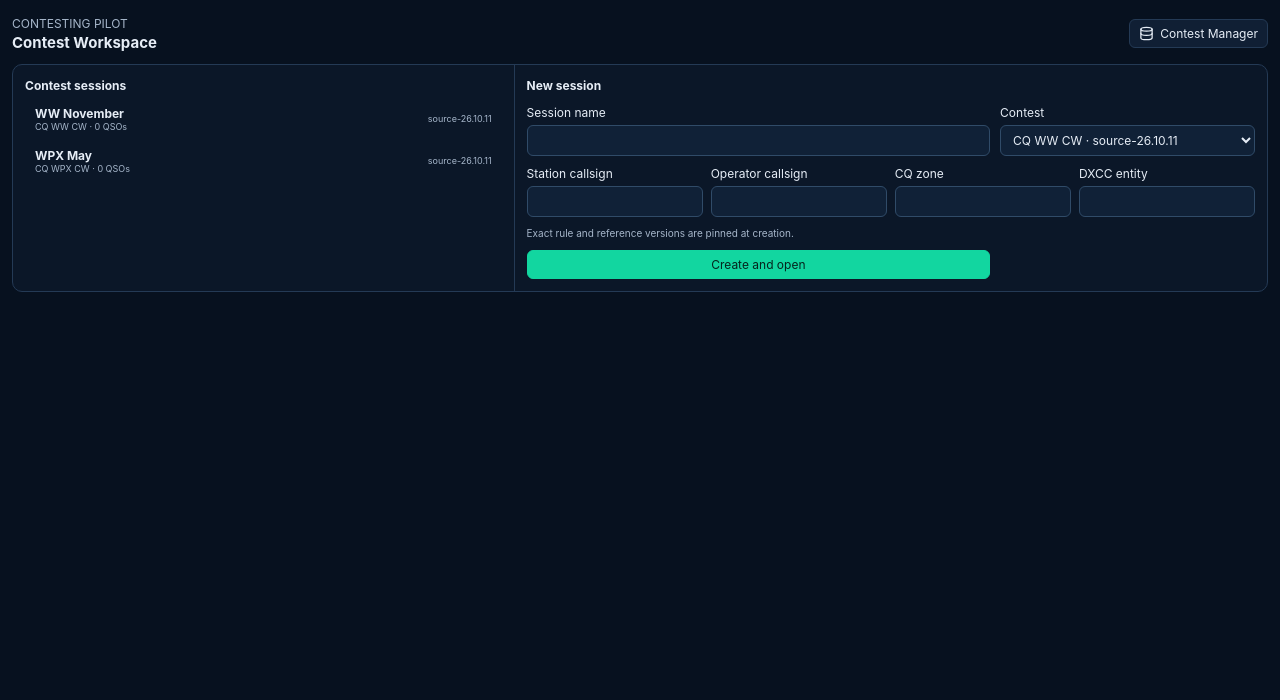
Test: shows actionable duplicate guidance for an authoritative blank next draft
The width and height of the screenshot is (1280, 700).
Click the button "WW November CQ WW CW · 0 QSOs source-26.10.11" at (79, 113), box [25,100,502,137]
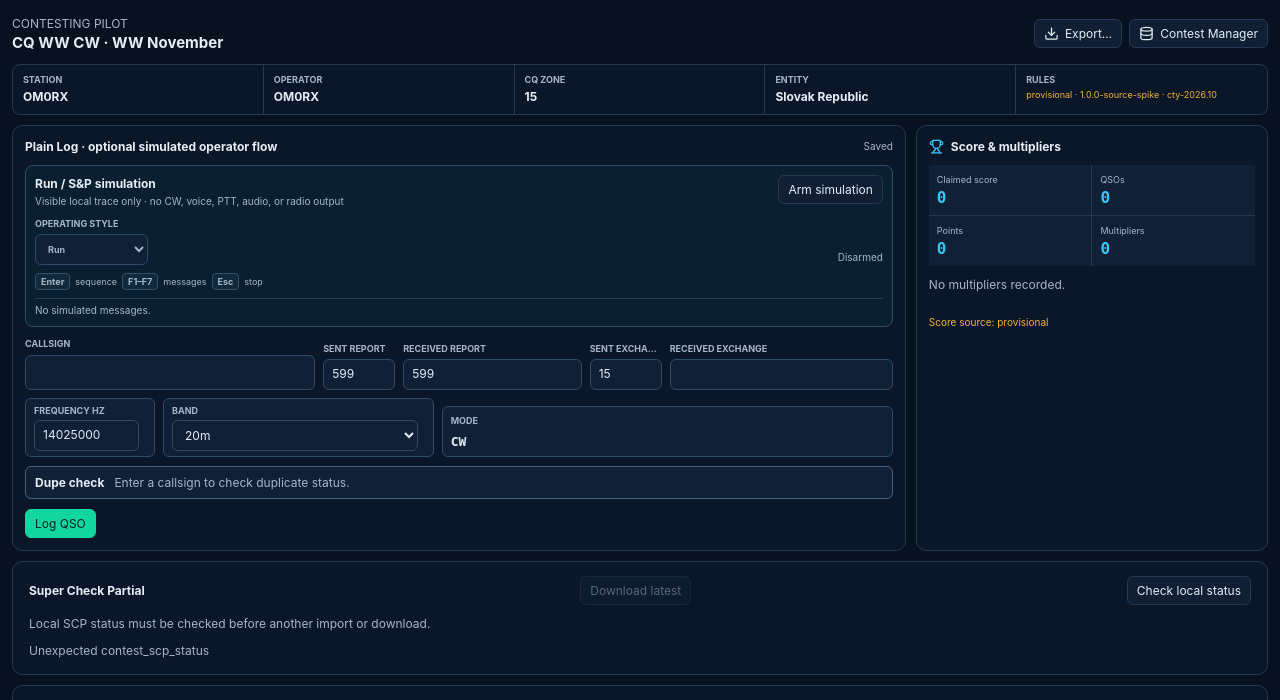
Expected: the text "Enter a callsign to check duplicate status." is shown, [114,474,350,491]
